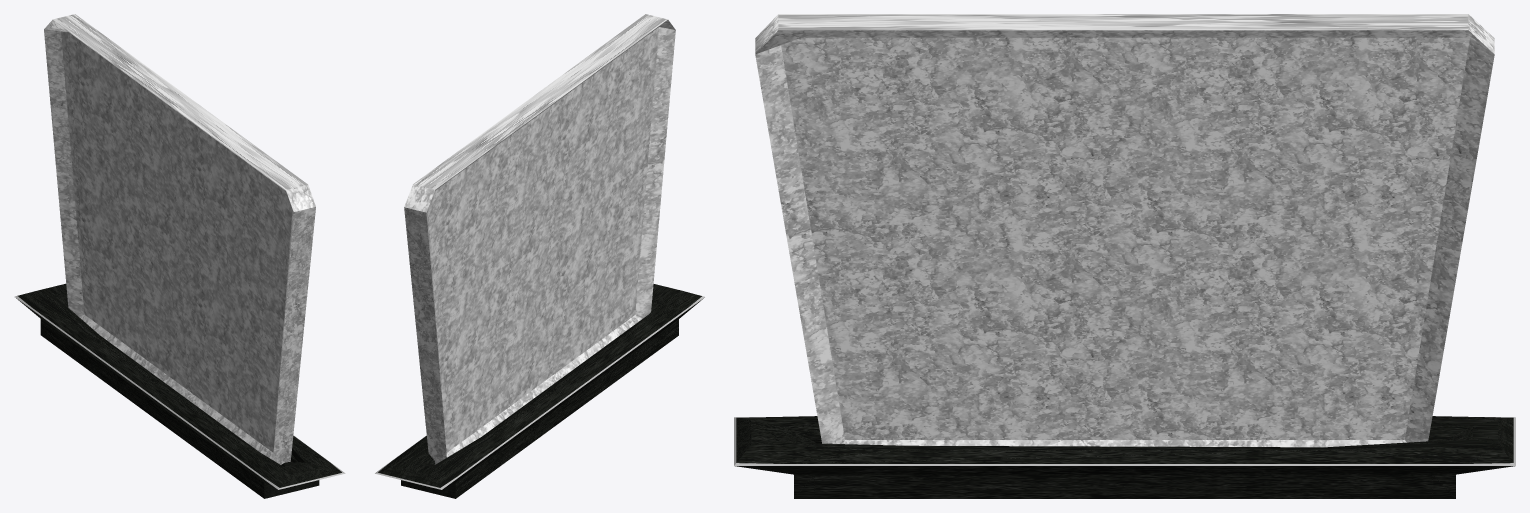
File: pared.fbx
The picture shows the model from 3 angles, left to right: view 1: azimuth 30°, elevation 25°; view 2: azimuth 150°, elevation 25°; view 3: azimuth 270°, elevation 25°; orthographic projection. The views are drawn at different scales.
Visible parts, largest first — view 1: pCube3; view 2: pCube3; view 3: pCube3.
Boxes of the visible parts, x1=… form: pCube3: x1=14, y1=14, x2=345, y2=498; pCube3: x1=375, y1=14, x2=704, y2=498; pCube3: x1=734, y1=14, x2=1515, y2=498.
Bounding box in the file's own units: 0.6162 × 2.7 × 4.18.
Materials: 3 (2 with a texture image).
